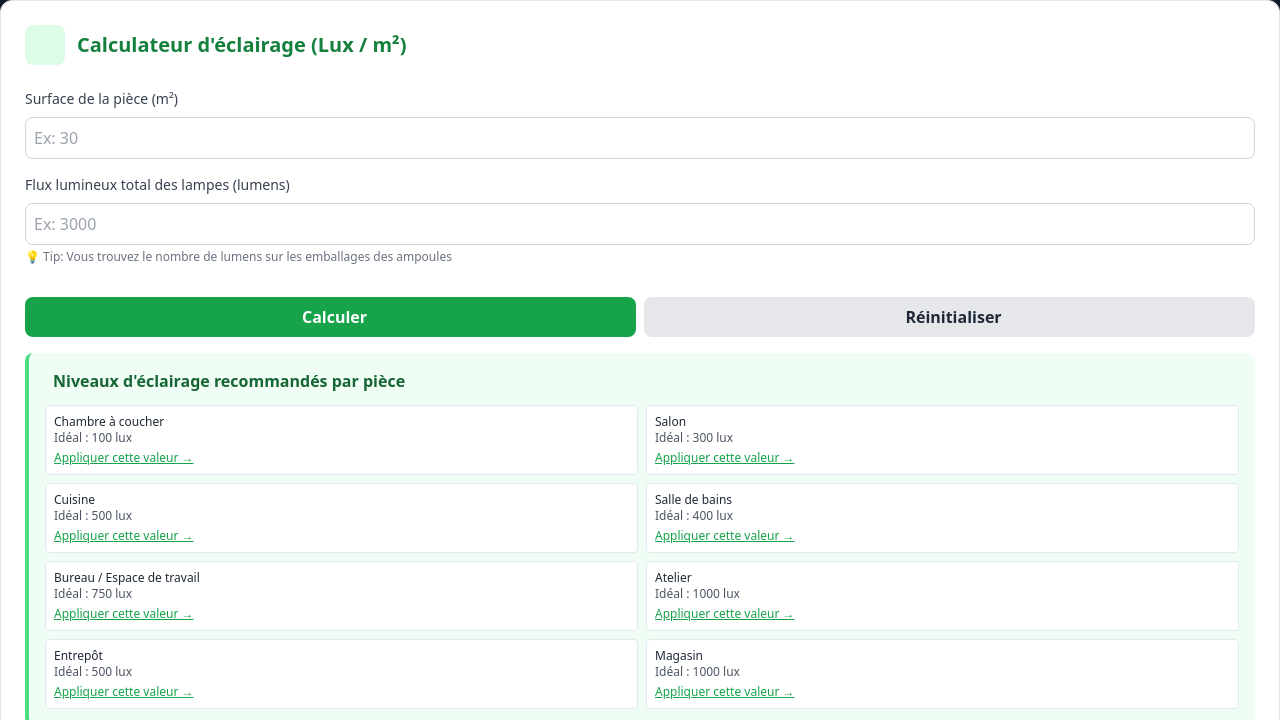
LightingCalculator › calculates lux correctly for standard case
The image size is (1280, 720).
Type "30" into the number field with placeholder "Ex: 30" at x=640, y=138, box [25,117,1255,159]
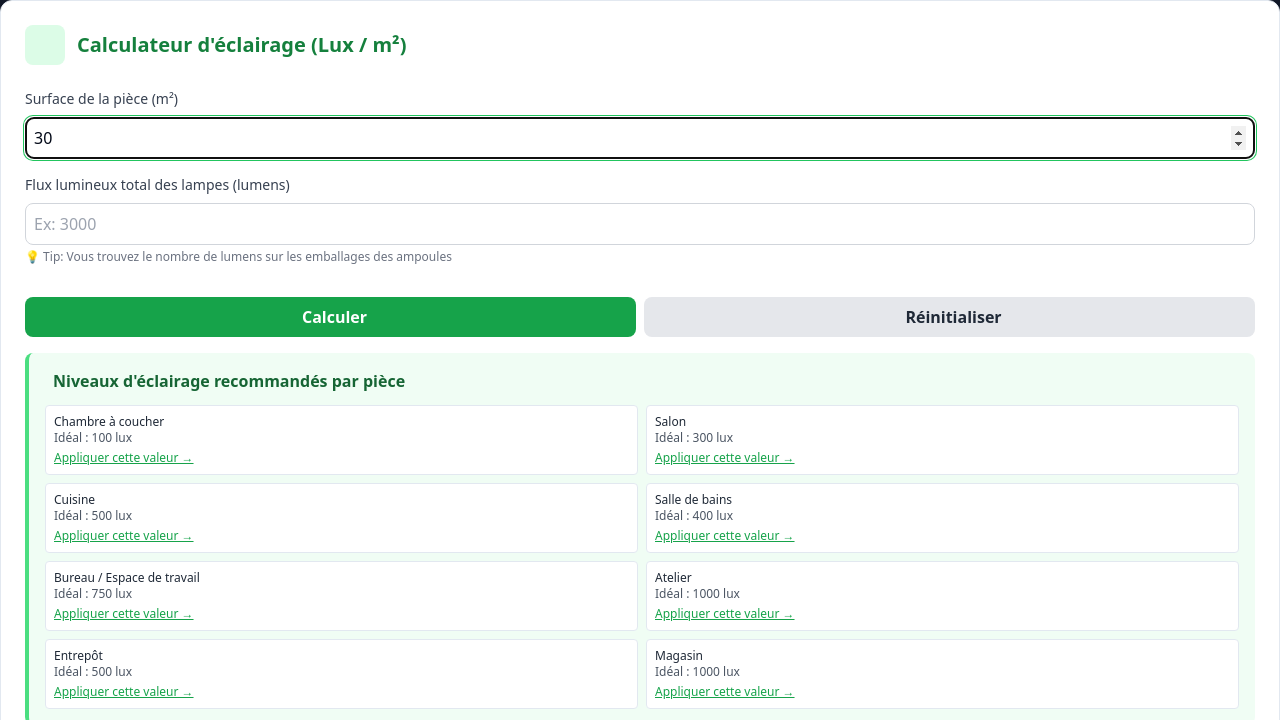
Type "3000" into the number field with placeholder "Ex: 3000" at x=640, y=224, box [25,203,1255,245]
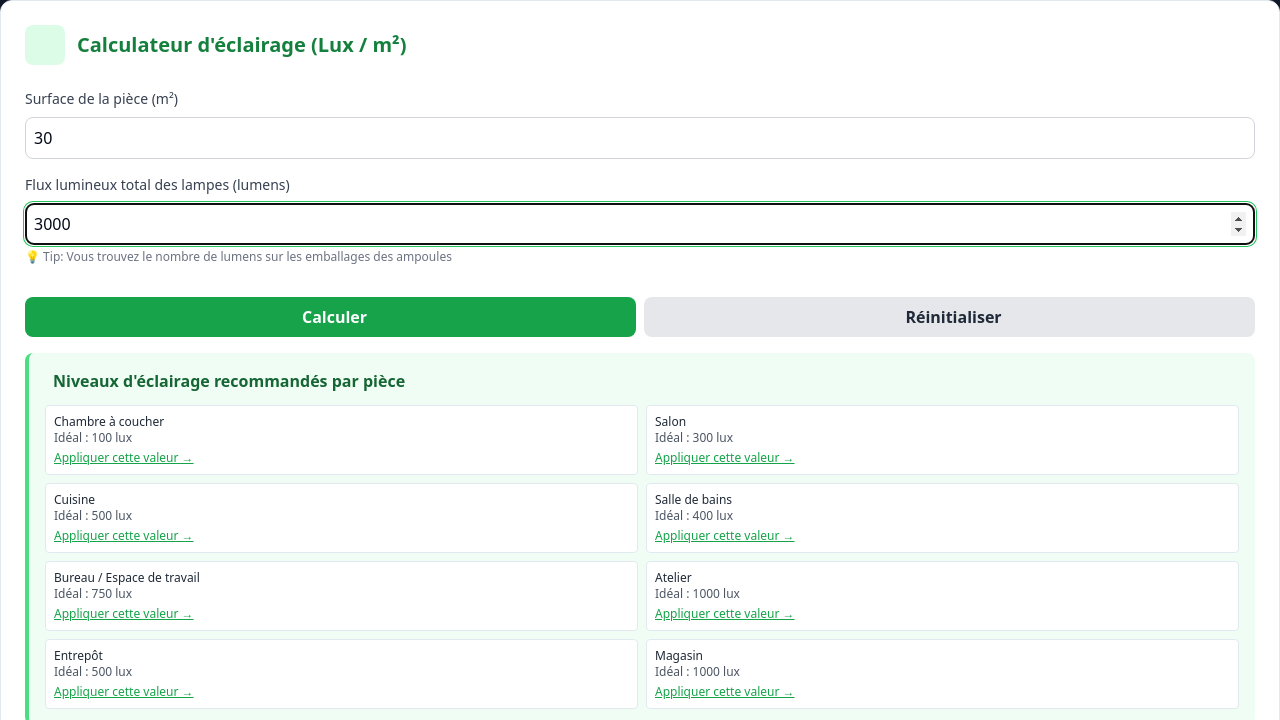
Click the button with aria-label "Calculer l'éclairement en lux" at x=330, y=317, box [25,297,636,337]
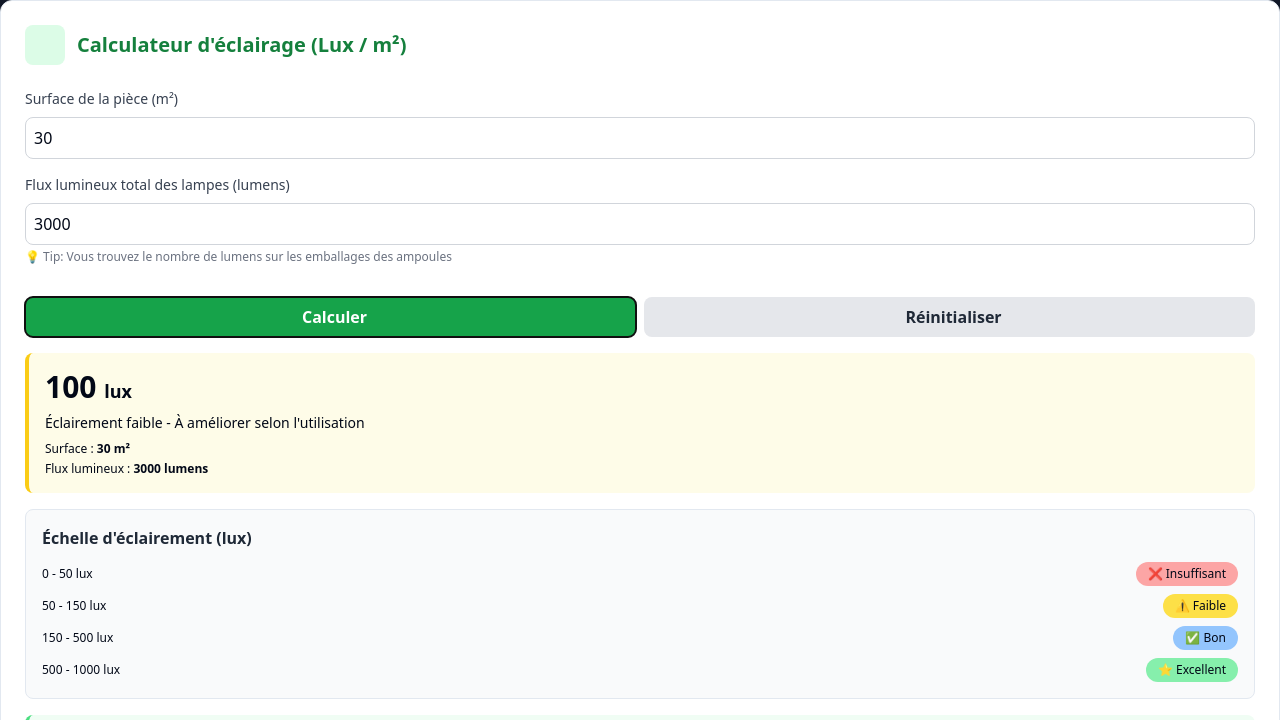
Expected: the text "100" is shown, [45,366,96,407]
Expected: the text "lux" is shown, [104,379,132,403]
